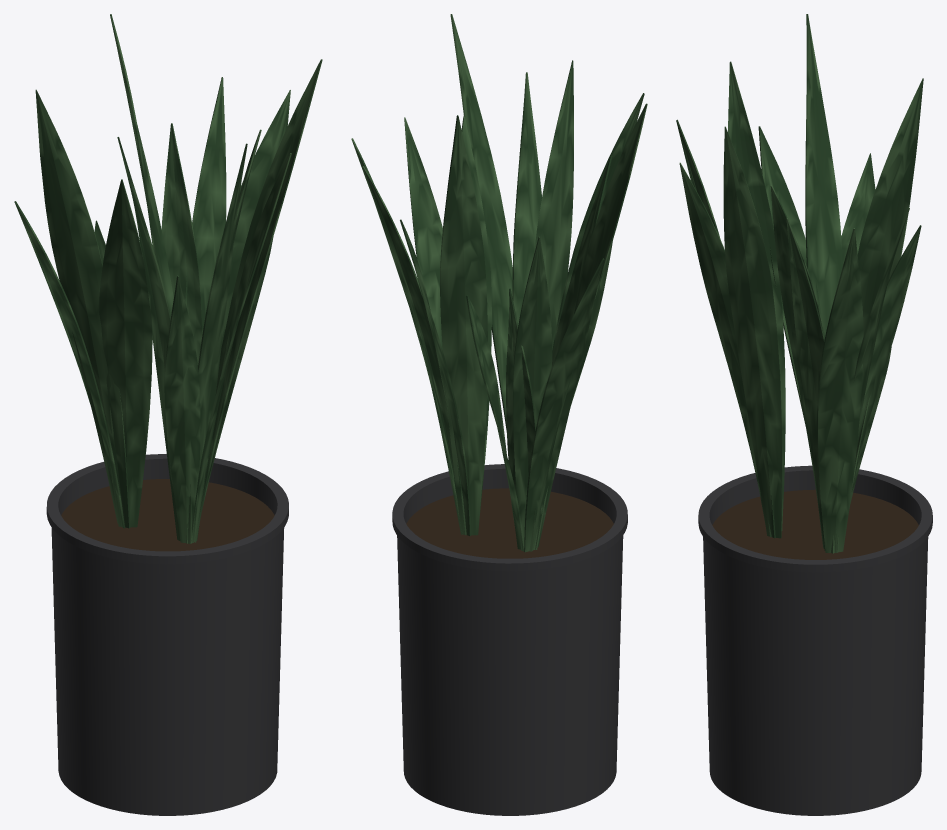
The model's file is snake_plant.glb.
3 views of the same model, side by side, from view 1: azimuth 30°, elevation 25°; view 2: azimuth 150°, elevation 25°; view 3: azimuth 270°, elevation 25° (orthographic). The views are drawn at different scales.
Visible parts, largest first — view 1: snake_plant.001, snake_plant, snake_plant.002; view 2: snake_plant, snake_plant.001, snake_plant.002; view 3: snake_plant, snake_plant.001, snake_plant.002.
Boxes of the visible parts, x1=… form: snake_plant.001: x1=46, y1=454, x2=288, y2=815; snake_plant: x1=14, y1=14, x2=322, y2=543; snake_plant.002: x1=61, y1=479, x2=274, y2=551; snake_plant: x1=351, y1=14, x2=647, y2=552; snake_plant.001: x1=392, y1=464, x2=627, y2=815; snake_plant.002: x1=406, y1=488, x2=613, y2=558; snake_plant: x1=676, y1=14, x2=923, y2=553; snake_plant.001: x1=698, y1=465, x2=932, y2=815; snake_plant.002: x1=712, y1=489, x2=918, y2=559.
Size of the model in its own units: 0.4429 by 1.09 by 0.3636.
